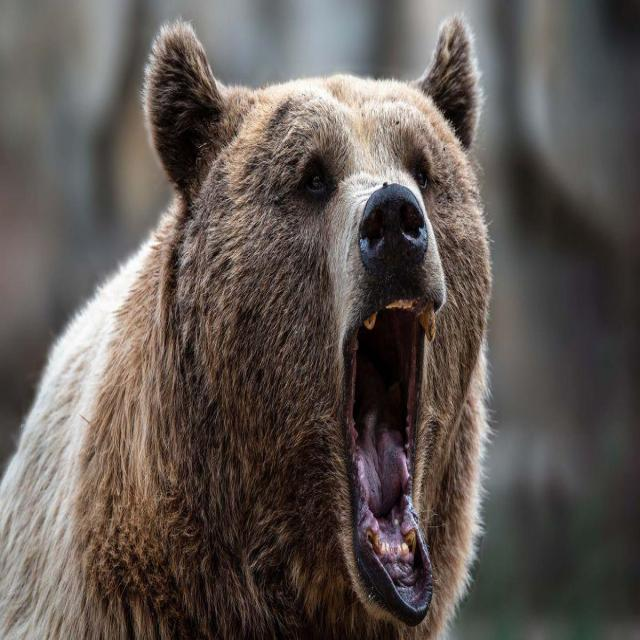Bear: (0, 15, 493, 640)
